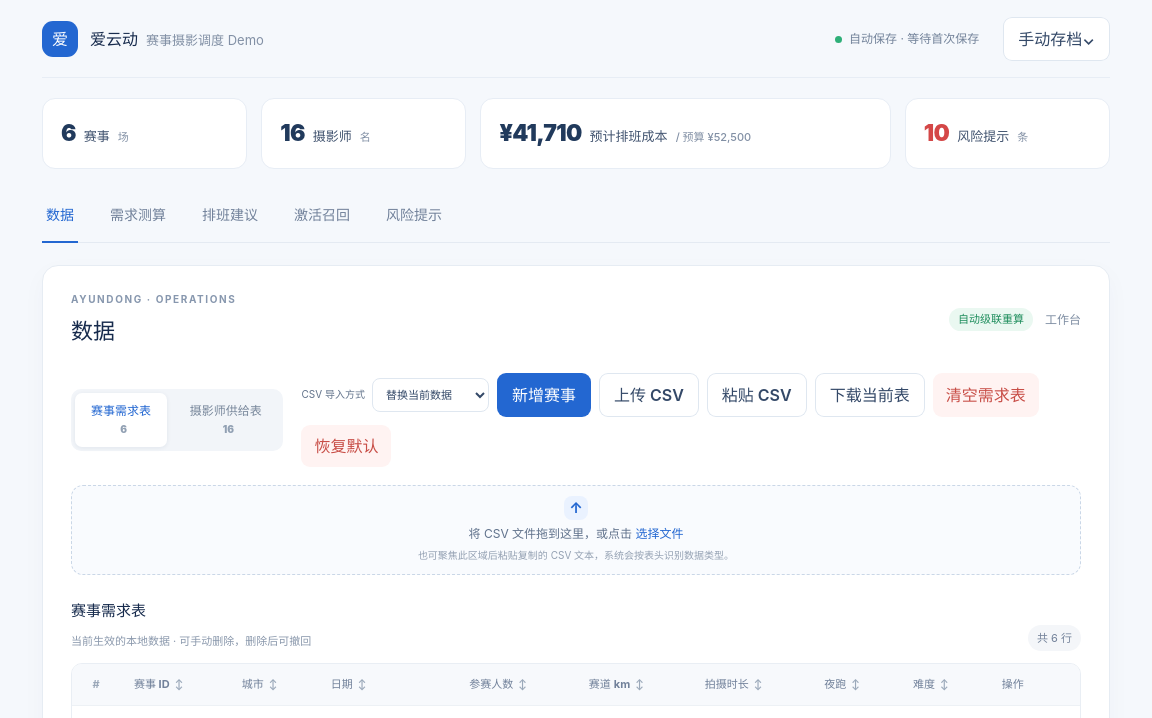
M0 application shell › changes the active page when a tab is selected
Click the tab "需求测算".
click(138, 215)  # box [106, 188, 170, 242]
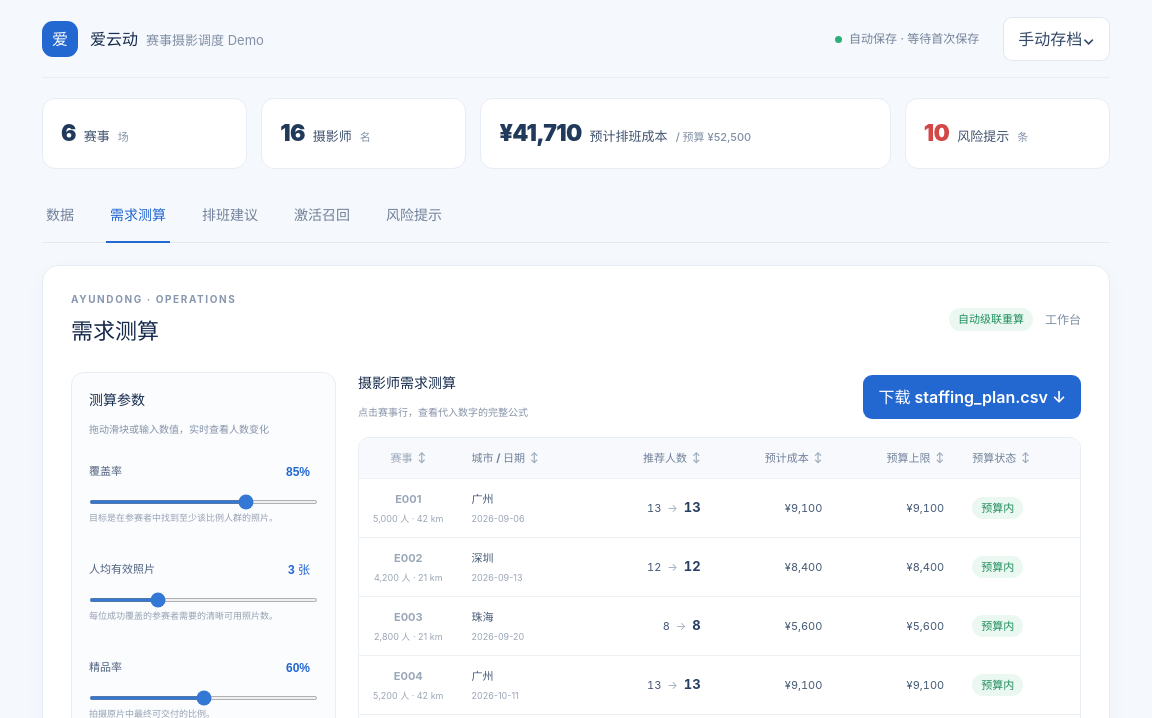
Now the heading "需求测算" is shown, box [71, 318, 159, 344]
